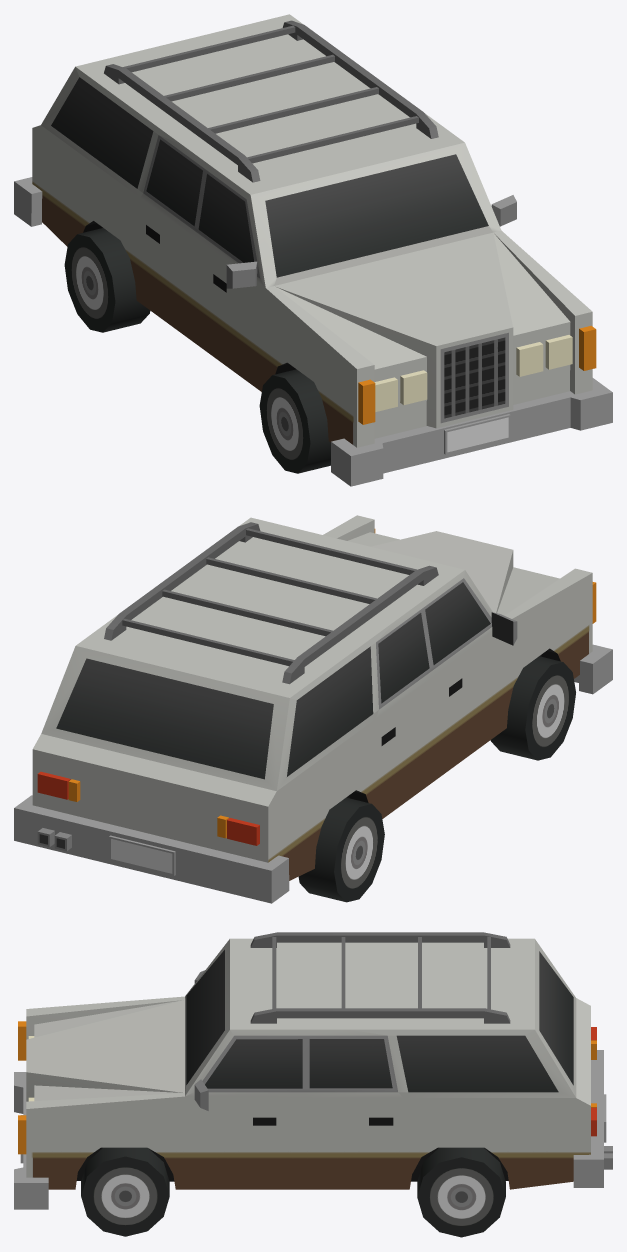
Rendered from StationWagon.fbx.
3 views of the same model, one above another, from view 1: azimuth 30°, elevation 25°; view 2: azimuth 150°, elevation 25°; view 3: azimuth 270°, elevation 25° (orthographic). The views are drawn at different scales.
Visible parts, largest first — view 1: StationWagon, TireBR, TireFR; view 2: StationWagon, TireBR, TireFR; view 3: StationWagon, TireBL, TireFL.
Part boxes in pixels (x1=…): StationWagon: x1=14, y1=14, x2=612, y2=486; TireBR: x1=64, y1=228, x2=150, y2=332; TireFR: x1=259, y1=369, x2=330, y2=473; StationWagon: x1=14, y1=515, x2=612, y2=903; TireBR: x1=298, y1=797, x2=384, y2=902; TireFR: x1=490, y1=656, x2=575, y2=760; StationWagon: x1=14, y1=932, x2=612, y2=1209; TireBL: x1=417, y1=1147, x2=505, y2=1237; TireFL: x1=81, y1=1147, x2=169, y2=1236.
Bounding box in the file's own units: 211 × 169 × 440.
